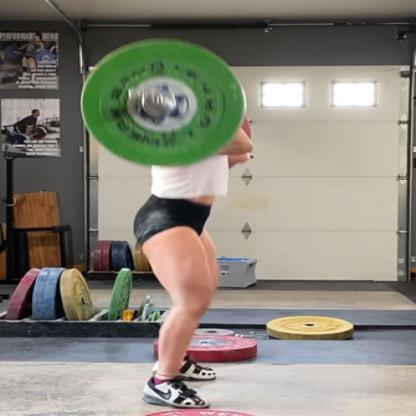Barbell: (134, 86, 168, 112)
